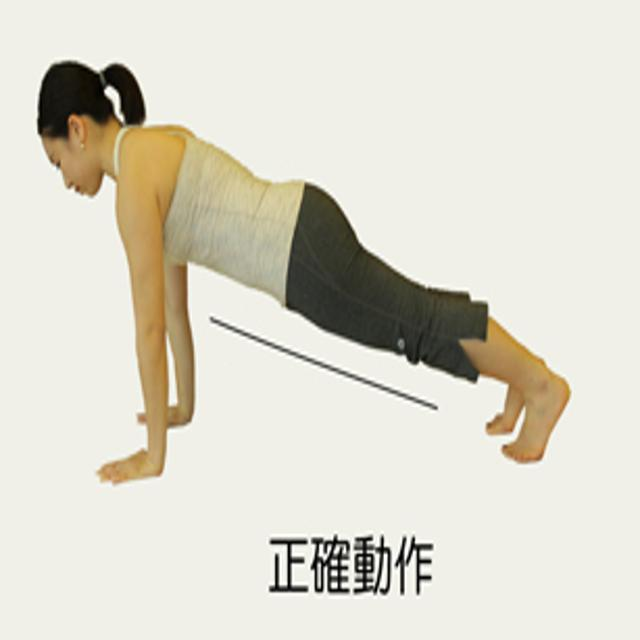Plank_Pose: (23, 47, 575, 489)
